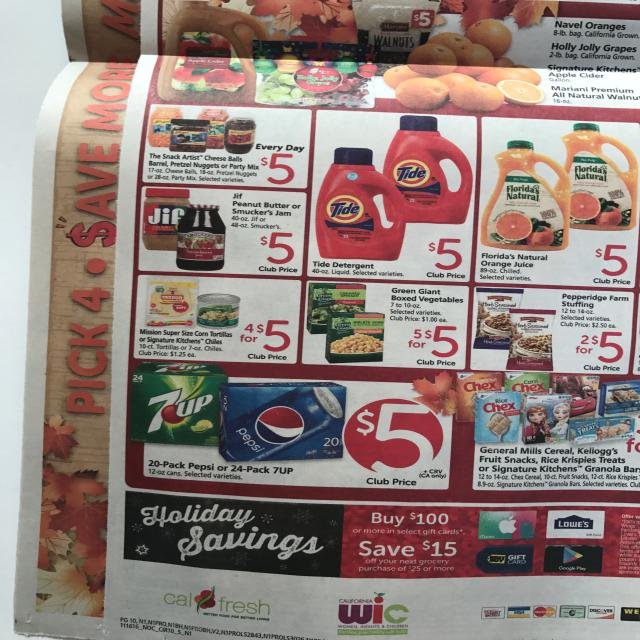paper: (15, 8, 640, 640)
